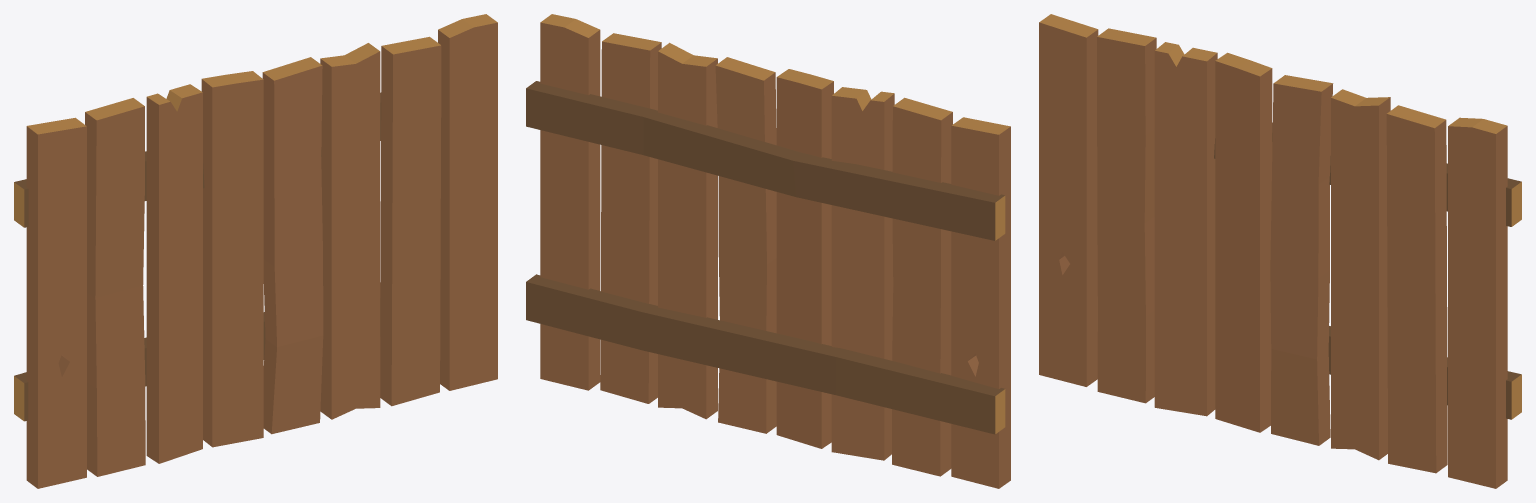
File: fence-classic.glb
3 renders of one model, left to right at view 1: azimuth 30°, elevation 25°; view 2: azimuth 150°, elevation 25°; view 3: azimuth 330°, elevation 25°, orthographic.
Visible parts, largest first — view 1: fence-classic; view 2: fence-classic; view 3: fence-classic.
Part boxes in pixels (box(x1,y1,x2,y2)): fence-classic: box(14, 14, 497, 488); fence-classic: box(526, 14, 1010, 488); fence-classic: box(1039, 14, 1521, 488).
Size of the model in its own units: 2 by 1.47 by 0.1922.
Materials: 1 (1 with a texture image).
